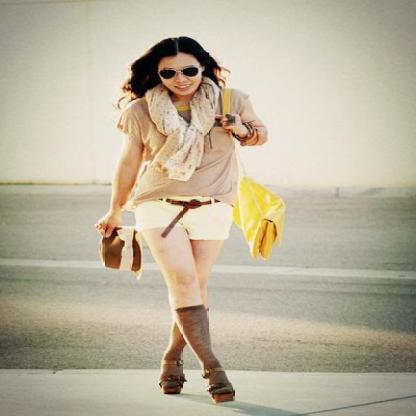bag: (228, 177, 287, 258)
shirt: (118, 87, 266, 207)
shoe: (159, 368, 234, 402)
shorts: (137, 197, 232, 240)
sunglass: (162, 68, 194, 78)
